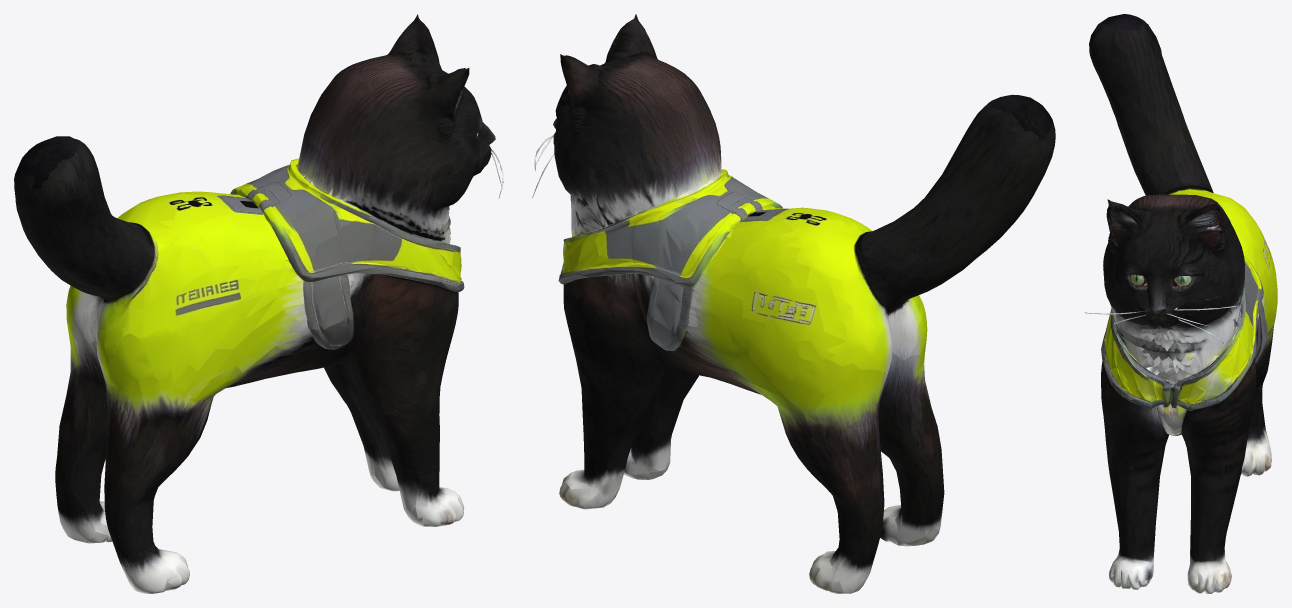
Rendered from FELIXHUD.glb.
The picture shows the model from 3 angles, left to right: view 1: azimuth 30°, elevation 25°; view 2: azimuth 150°, elevation 25°; view 3: azimuth 270°, elevation 25°; orthographic projection. The views are drawn at different scales.
Visible parts, largest first — view 1: fit; view 2: fit; view 3: fit.
Part boxes in pixels (<box>): fit: <box>14,14,503,593</box>; fit: <box>532,14,1055,593</box>; fit: <box>1085,14,1277,593</box>.
Bounding box in the file's own units: 1.08 × 1 × 0.4307.
1 material, 1 textured.
